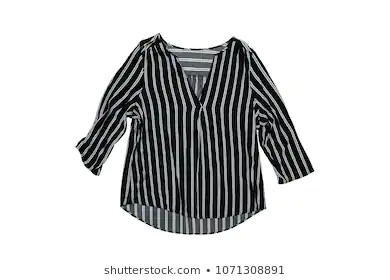C_blouse: (78, 30, 310, 229)
